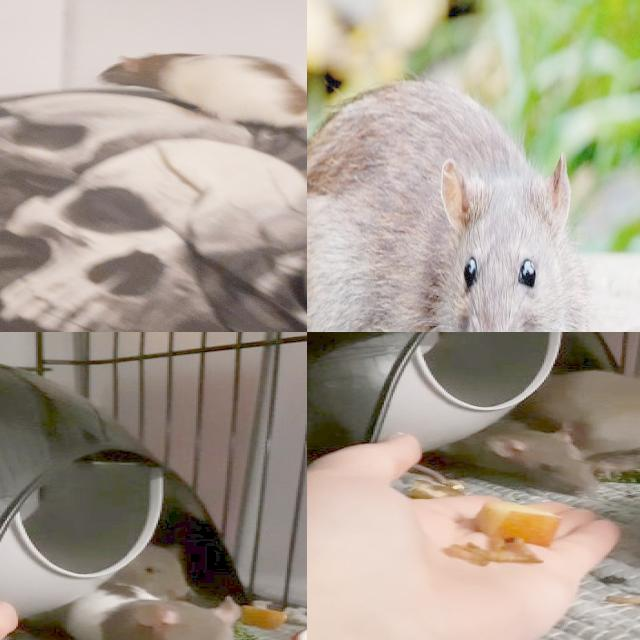rat: (307, 73, 588, 332), (90, 51, 307, 124), (445, 419, 604, 496), (48, 580, 242, 640), (96, 537, 195, 599)
